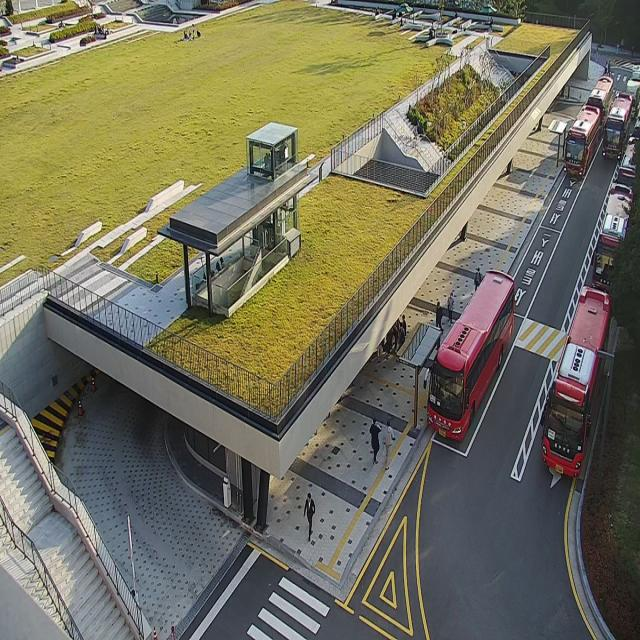queue: (416, 332, 440, 428)
